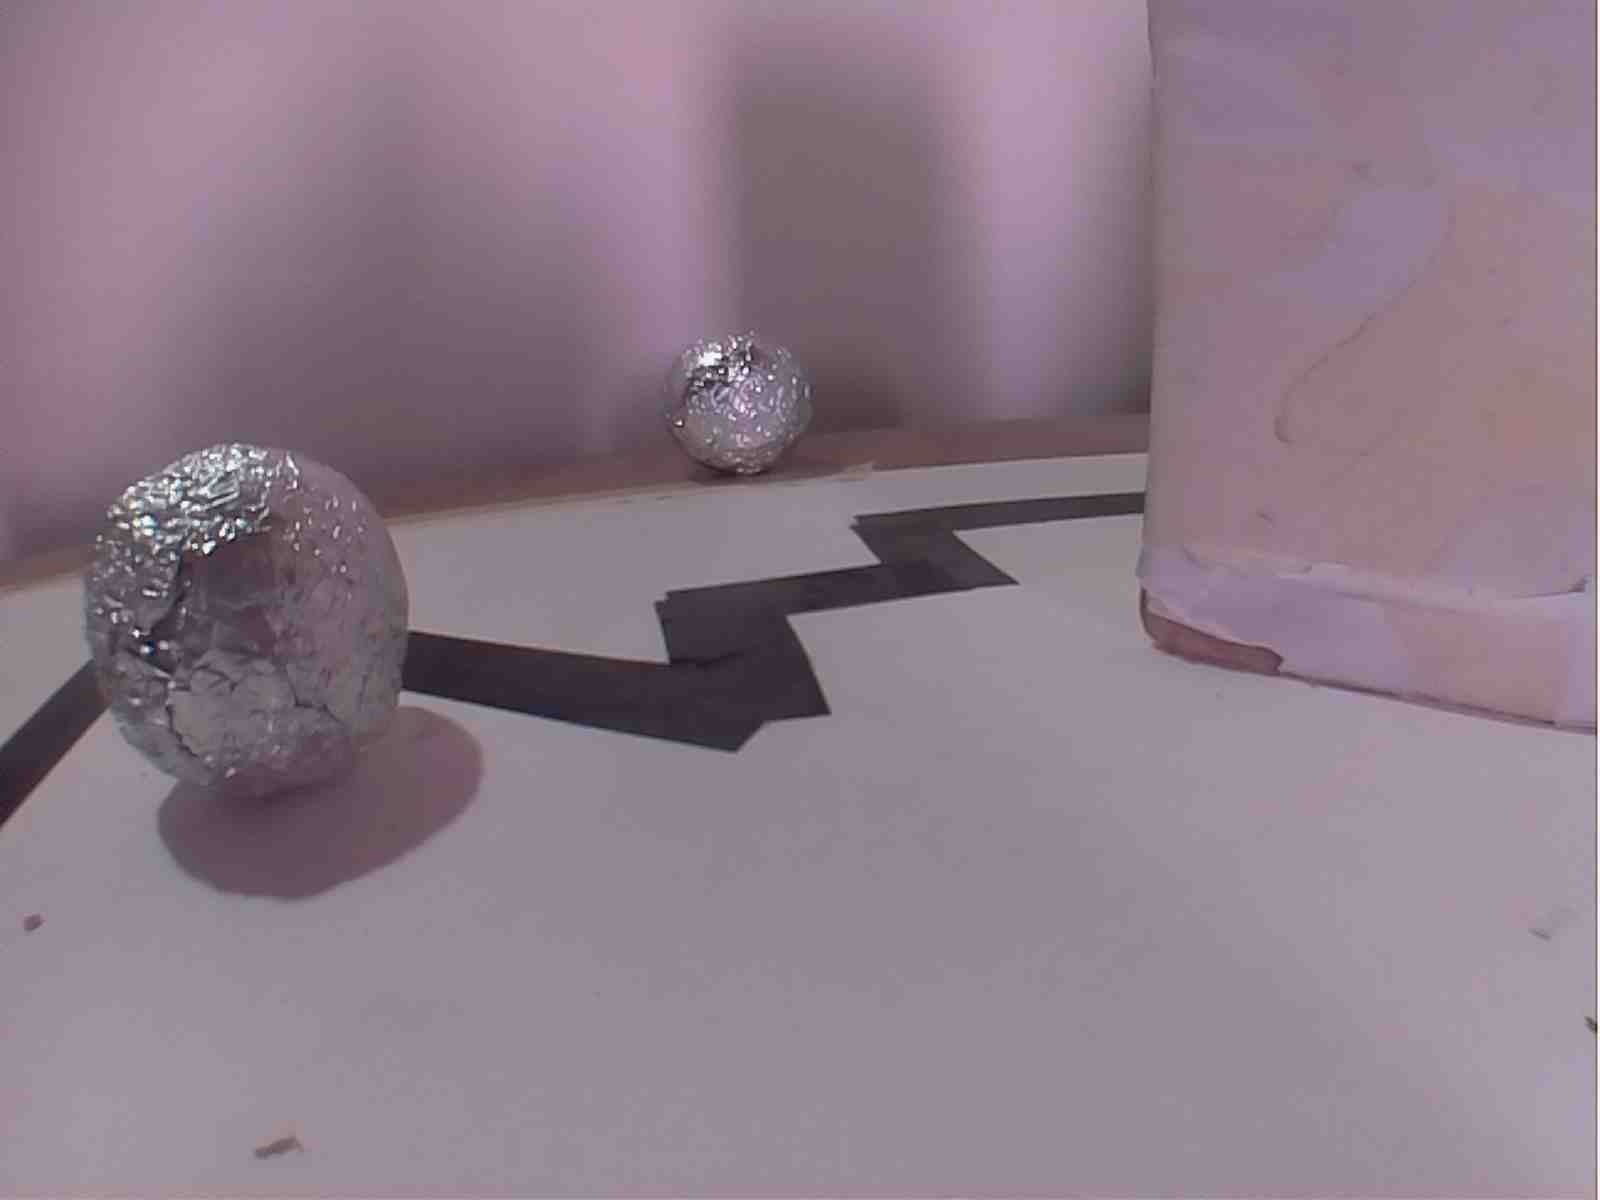bianca: (66, 436, 420, 804), (656, 329, 821, 487)
